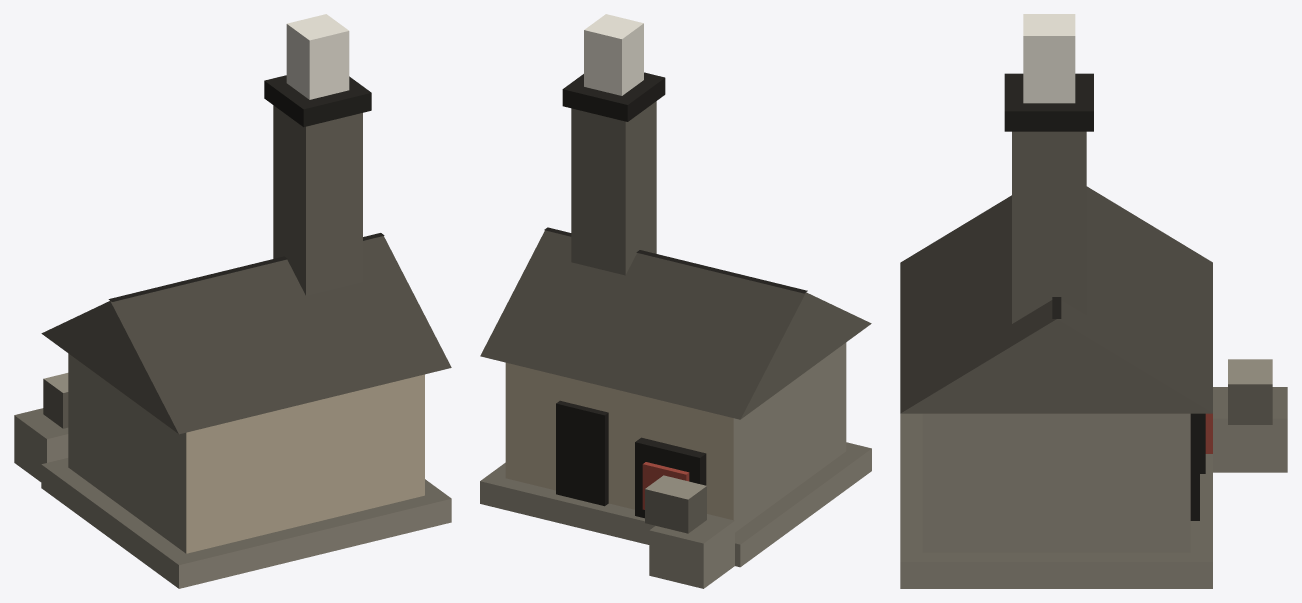
The model's file is bld_forge.glb.
3 renders of one model, left to right at view 1: azimuth 30°, elevation 25°; view 2: azimuth 150°, elevation 25°; view 3: azimuth 270°, elevation 25°, orthographic. The views are drawn at different scales.
Parts seen in each view (by area): view 1: bld_forge; view 2: bld_forge; view 3: bld_forge.
Boxes of the visible parts, box(x1,y1,x2,y2) form: bld_forge: box(14, 14, 451, 588); bld_forge: box(480, 14, 871, 588); bld_forge: box(900, 14, 1287, 588).
Bounding box in the file's own units: 0.96 × 1.56 × 1.04.
1 material, 1 textured.
